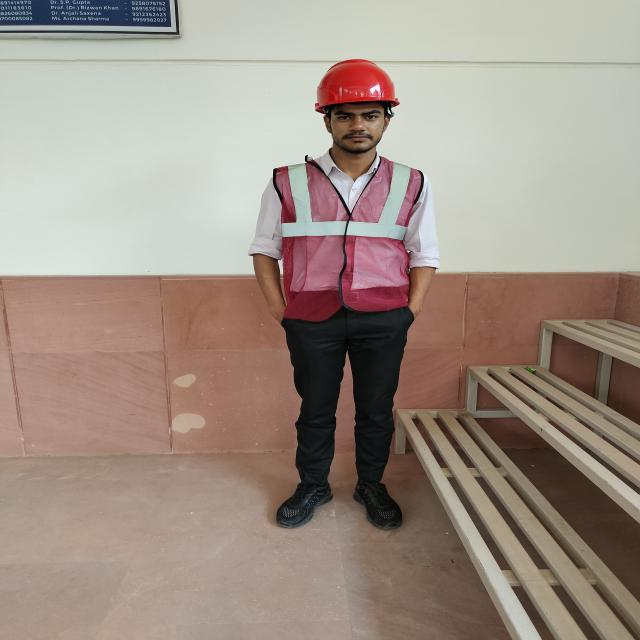safe: (251, 59, 438, 529)
